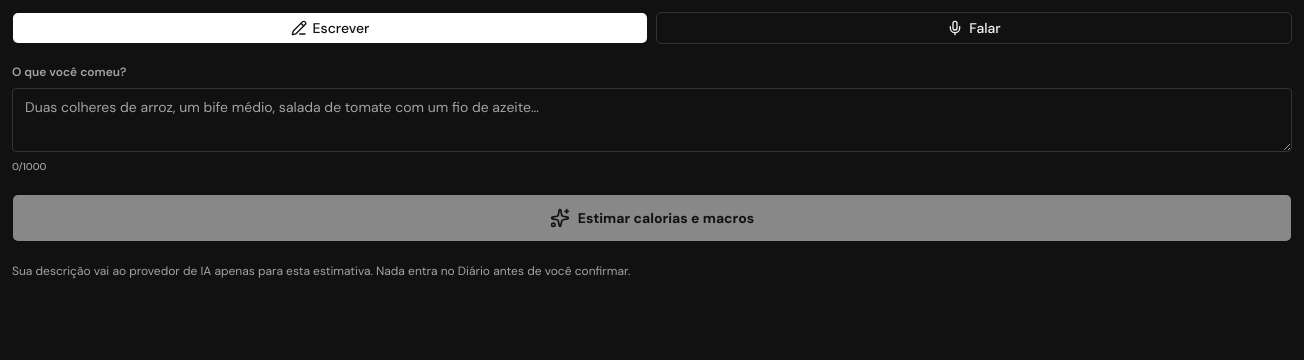
Test: RegistroPorDescricao › falha na estimativa preserva a descrição digitada
Type "arroz e bife" into the text box named "Descrição da refeição" at [652, 120], box [12,88,1292,152]
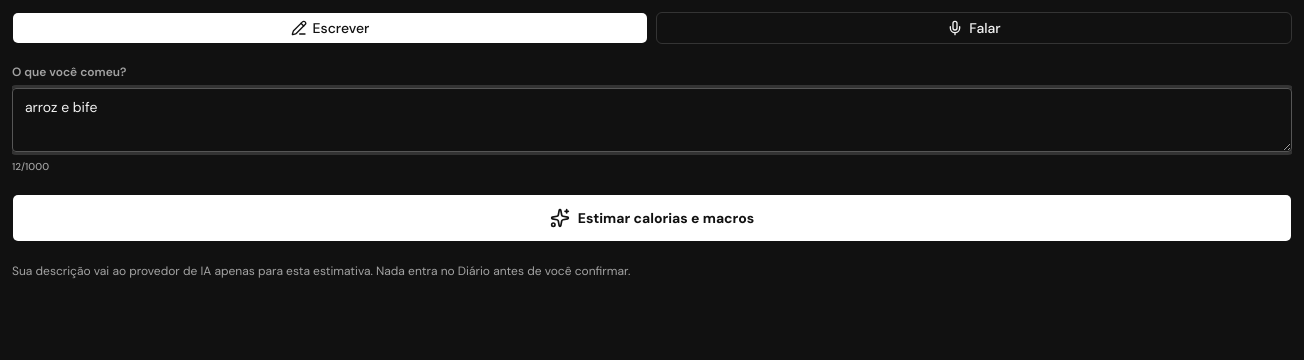
Click the button "Estimar calorias e macros" at [652, 218], box [12,194,1292,242]
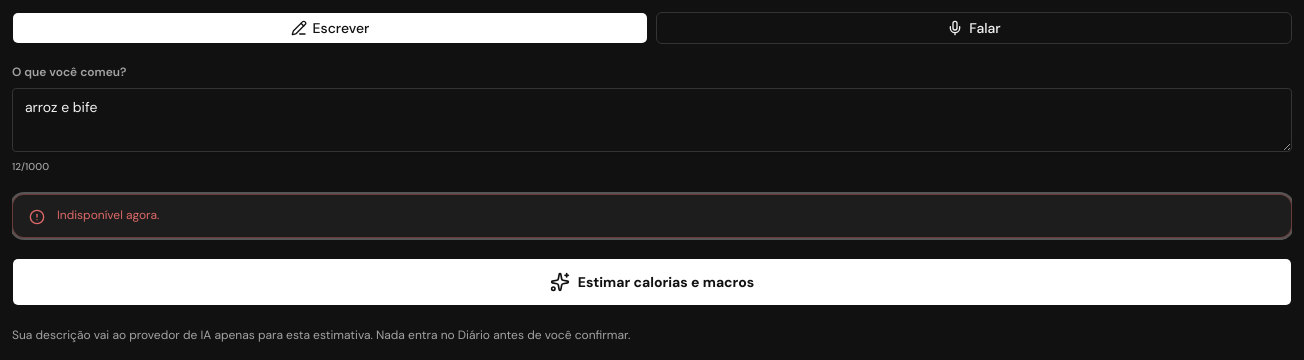
Expected: the text "Indisponível agora." is shown, [12,194,1292,238]
